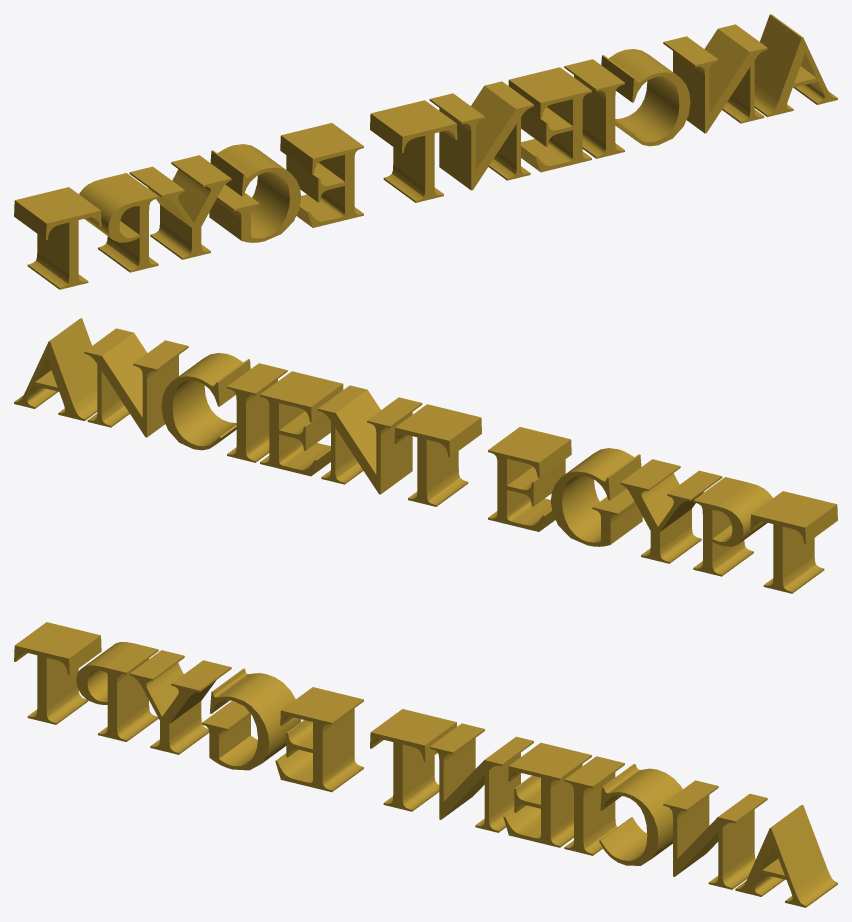
File: inscription_egypt.FBX
3 views of the same model, one above another, from view 1: azimuth 30°, elevation 25°; view 2: azimuth 150°, elevation 25°; view 3: azimuth 330°, elevation 25° (orthographic).
Parts seen in each view (by area): view 1: ancientegypt; view 2: ancientegypt; view 3: ancientegypt.
Part boxes in pixels (x1=…): ancientegypt: x1=14, y1=14, x2=837, y2=289; ancientegypt: x1=14, y1=318, x2=837, y2=593; ancientegypt: x1=14, y1=622, x2=837, y2=907.
Size of the model in its own units: 1.43 by 0.1248 by 0.1.
